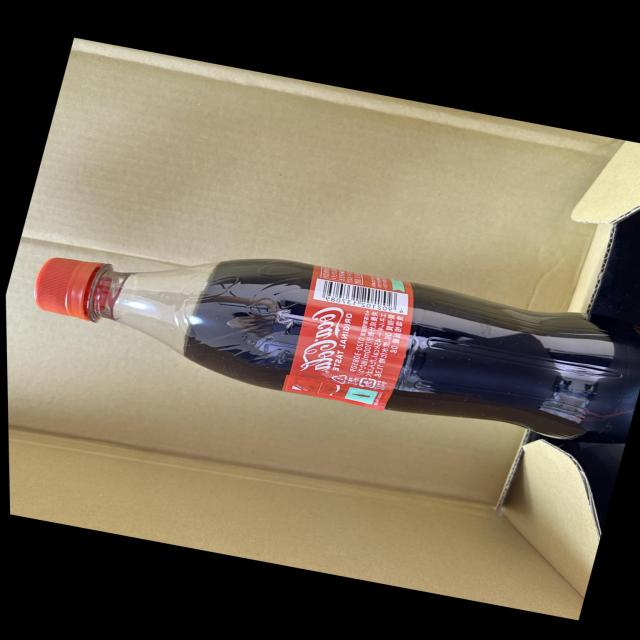high: (35, 259, 640, 443)
